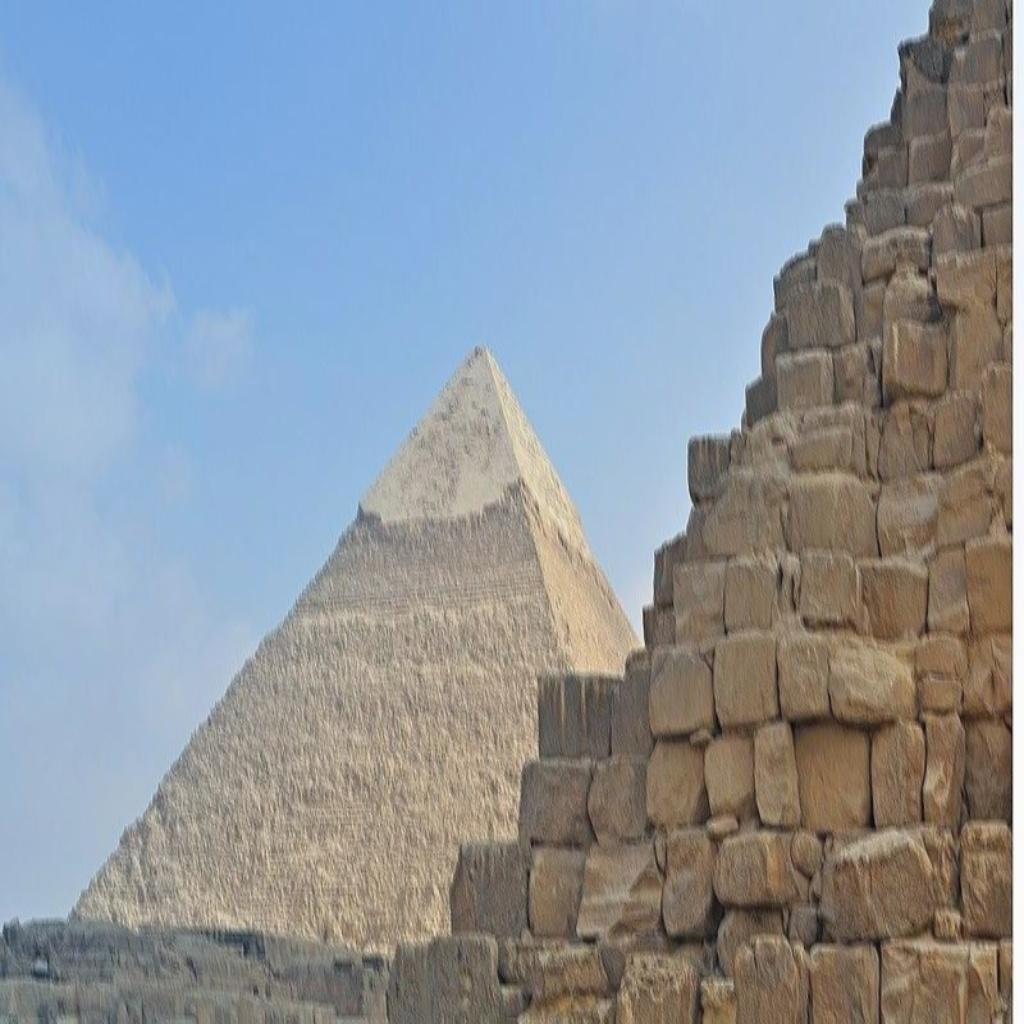Great Pyramids of Giza: (51, 4, 1011, 1007)
